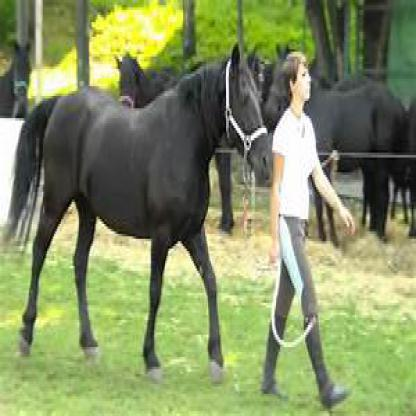horse: (8, 42, 273, 379)
